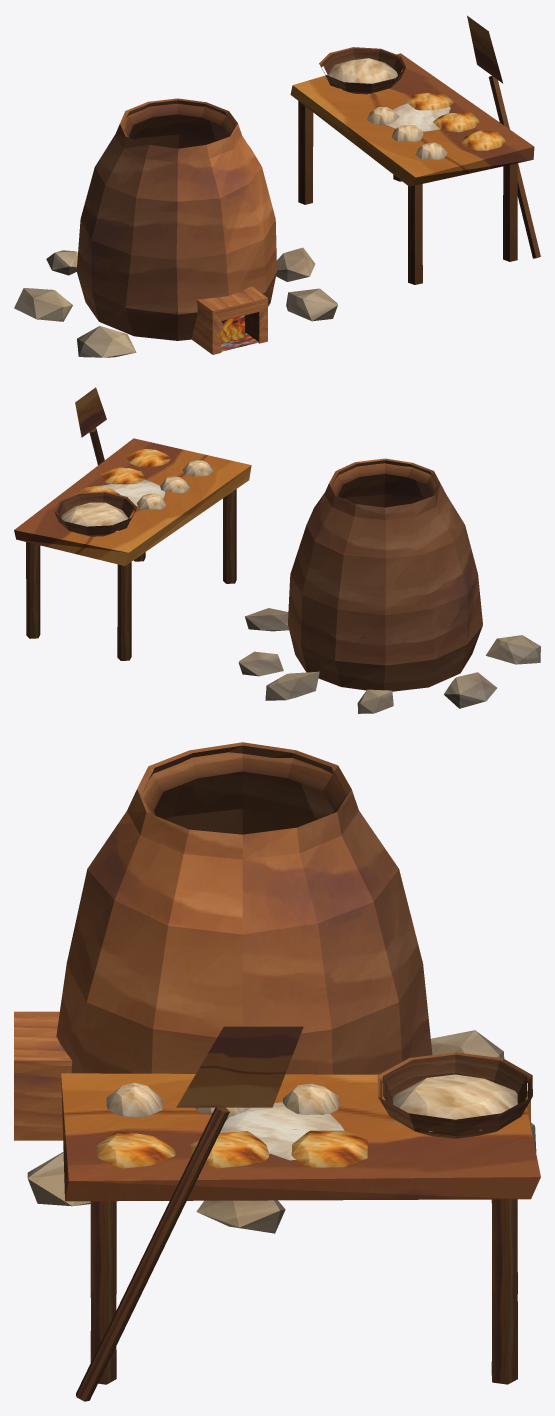
Rendered from forno.glb.
The picture shows the model from 3 angles, top to bottom: view 1: azimuth 30°, elevation 25°; view 2: azimuth 150°, elevation 25°; view 3: azimuth 270°, elevation 25°; orthographic projection. The views are drawn at different scales.
Visible parts, largest first — view 1: Forno_Corpo, Forno_Mesa, Forno_Nicho, Forno_Pao_2, Forno_Pao_1, Forno_Pao_3, Forno_Boca, Forno_ChamaBoca, Forno_Massa_2, Forno_Massa_3, Forno_Massa_1; view 2: Forno_Corpo, Forno_Mesa, Forno_Pao_1, Forno_Pao_2, Forno_Massa_1; view 3: Forno_Corpo, Forno_Mesa, Forno_Nicho, Forno_Pao_3, Forno_Pao_1, Forno_Pao_2, Forno_Massa_1, Forno_Massa_3.
Boxes of the visible parts, left/top/right/bottom form: Forno_Corpo: left=14, top=98, right=337, bottom=357; Forno_Mesa: left=290, top=15, right=540, bottom=284; Forno_Nicho: left=192, top=286, right=267, bottom=354; Forno_Pao_2: left=433, top=112, right=479, bottom=132; Forno_Pao_1: left=462, top=130, right=505, bottom=150; Forno_Pao_3: left=406, top=93, right=453, bottom=110; Forno_Boca: left=221, top=315, right=258, bottom=351; Forno_ChamaBoca: left=221, top=318, right=245, bottom=343; Forno_Massa_2: left=391, top=125, right=423, bottom=141; Forno_Massa_3: left=367, top=107, right=399, bottom=124; Forno_Massa_1: left=415, top=142, right=447, bottom=159; Forno_Corpo: left=238, top=458, right=540, bottom=713; Forno_Mesa: left=14, top=387, right=251, bottom=660; Forno_Pao_1: left=126, top=449, right=171, bottom=467; Forno_Pao_2: left=100, top=467, right=145, bottom=484; Forno_Massa_1: left=182, top=460, right=213, bottom=476; Forno_Corpo: left=27, top=742, right=536, bottom=1233; Forno_Mesa: left=61, top=1026, right=540, bottom=1401; Forno_Nicho: left=14, top=1011, right=72, bottom=1140; Forno_Pao_3: left=291, top=1130, right=367, bottom=1167; Forno_Pao_1: left=97, top=1131, right=175, bottom=1168; Forno_Pao_2: left=190, top=1131, right=269, bottom=1168; Forno_Massa_1: left=106, top=1082, right=162, bottom=1116; Forno_Massa_3: left=283, top=1083, right=338, bottom=1114.
Size of the model in its own units: 2.39 by 1.02 by 1.31.
Materials: 2 (2 with a texture image).
